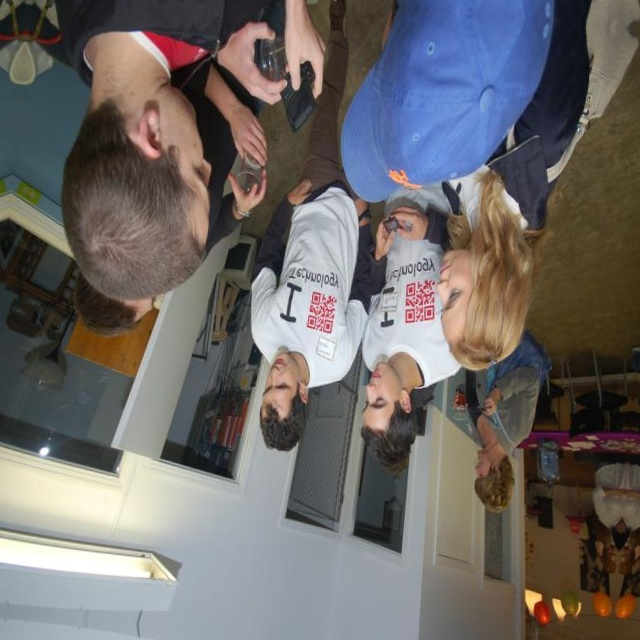qr-code: (403, 277, 438, 326), (306, 292, 337, 334)
